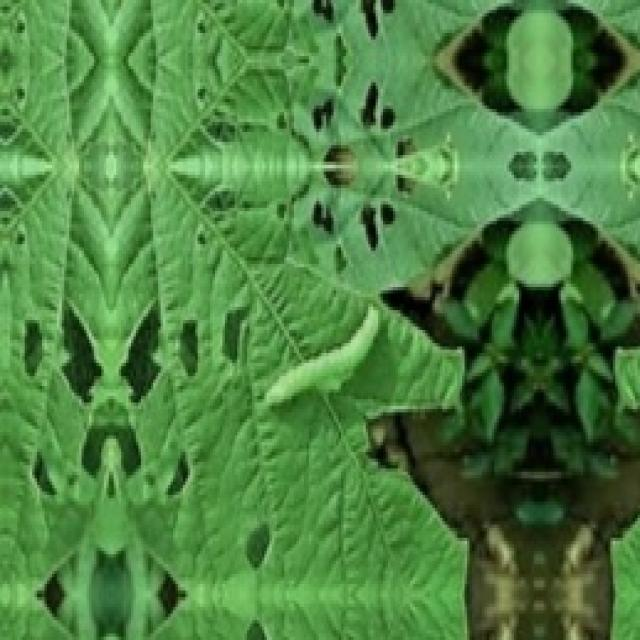armyworm: (262, 308, 384, 412)
